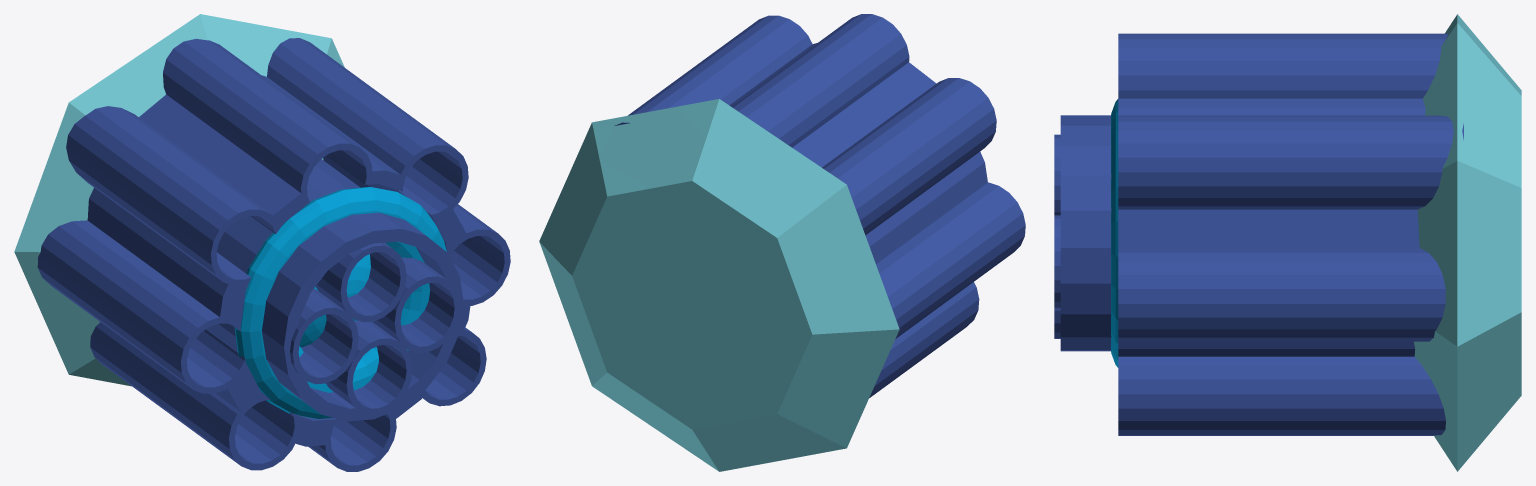
The model's file is tinker.obj.
The picture shows the model from 3 angles, left to right: view 1: azimuth 30°, elevation 25°; view 2: azimuth 150°, elevation 25°; view 3: azimuth 270°, elevation 25°; orthographic projection. The views are drawn at different scales.
Parts seen in each view (by area): view 1: group_0_3888547, group_0_7720667, group_0_40919; view 2: group_0_7720667, group_0_3888547; view 3: group_0_3888547, group_0_7720667, group_0_40919.
Boxes of the visible parts, <box> form: group_0_3888547: <box>37,38,510,471</box>; group_0_7720667: <box>14,14,344,386</box>; group_0_40919: <box>234,187,446,418</box>; group_0_7720667: <box>539,99,899,471</box>; group_0_3888547: <box>615,14,1025,397</box>; group_0_3888547: <box>1054,33,1463,435</box>; group_0_7720667: <box>1414,14,1521,471</box>; group_0_40919: <box>1111,99,1118,367</box>.
Size of the model in its own units: 62 by 61.32 by 59.
